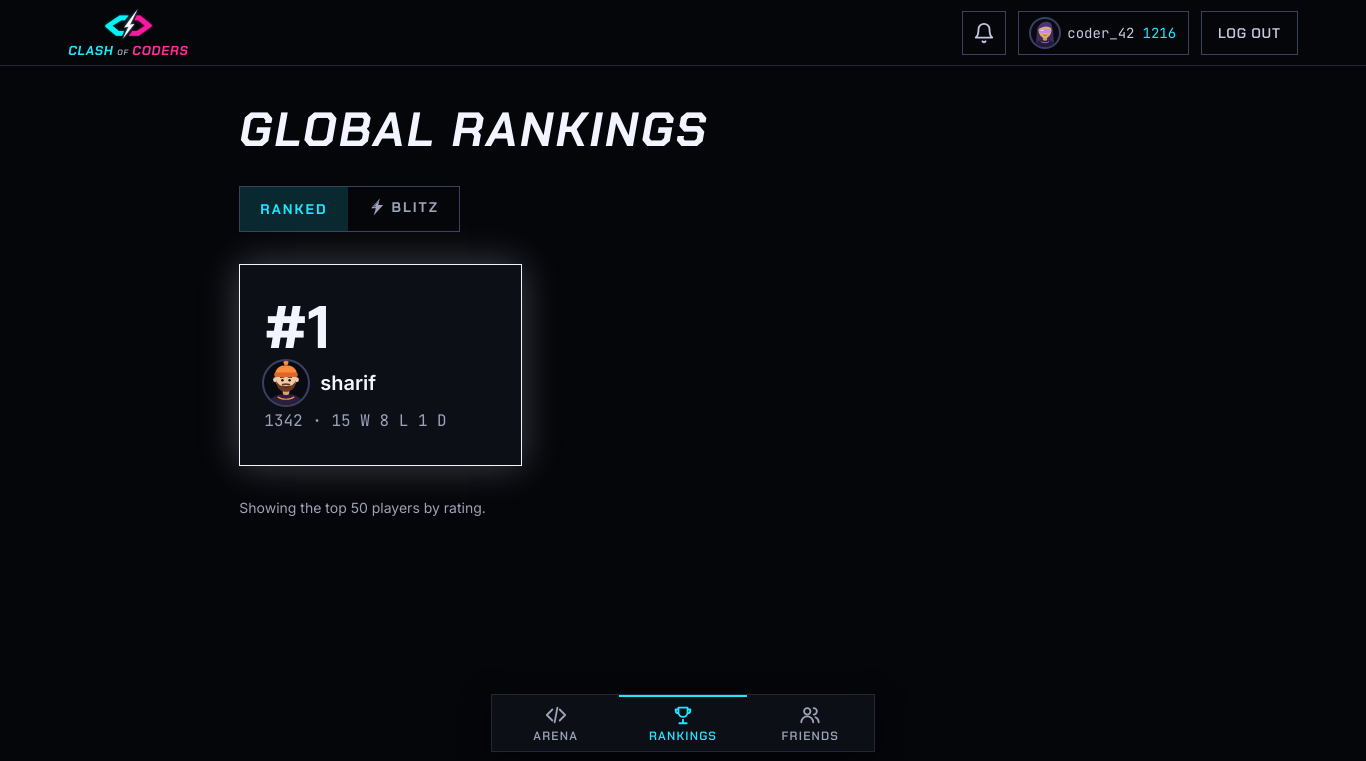
Test: profile page › is reachable from your name in the menu and from the rankings
Click the link with aria-label "Your profile, rating 1216". click: (1104, 32)
box: [1018,10,1189,54]
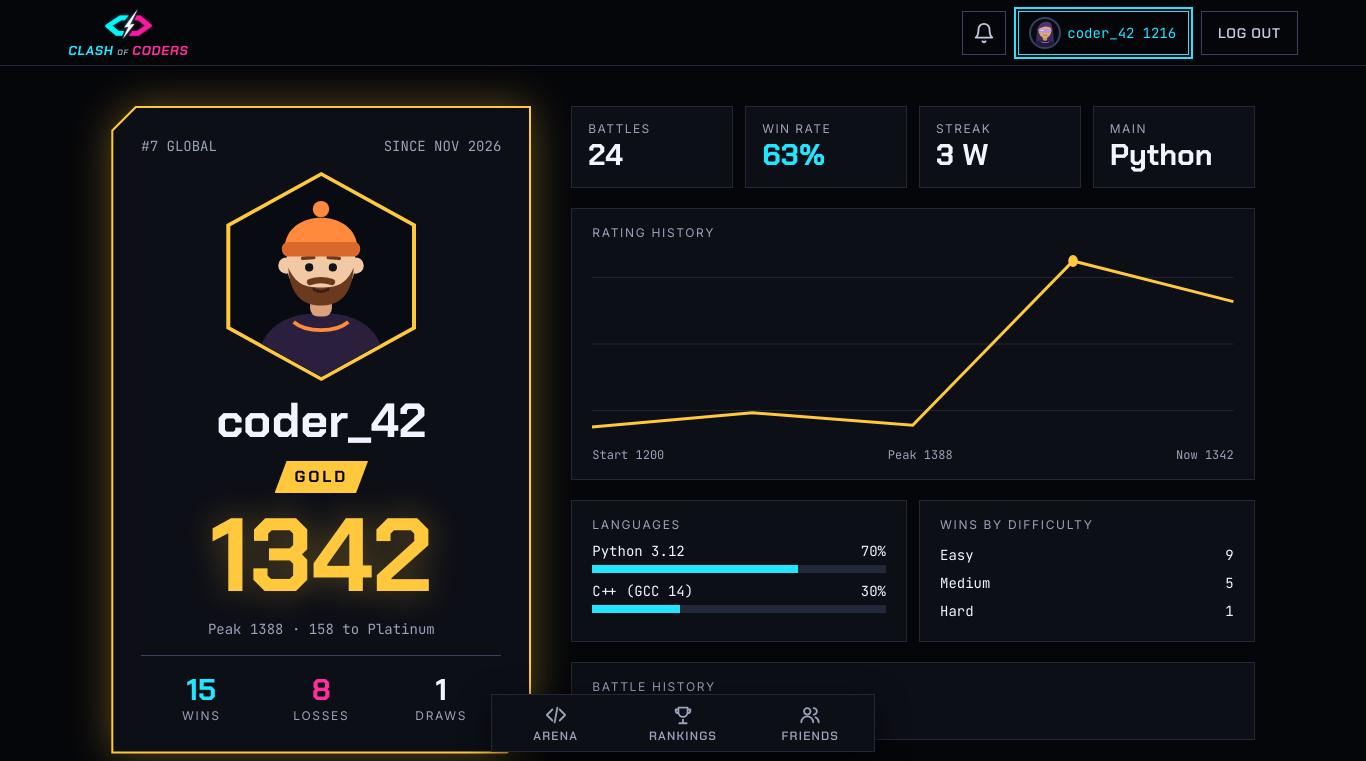
Check: the element named "Player card for coder_42" is shown, box [113,108,529,752]
